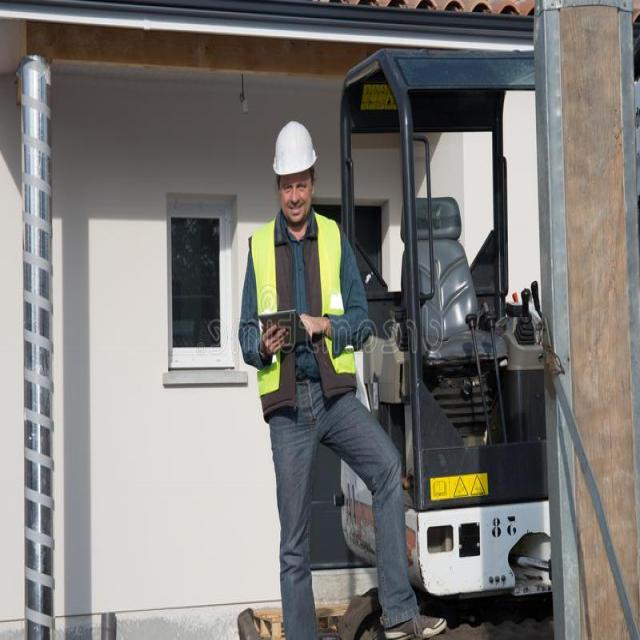Reflective-Jacket: (242, 208, 362, 412)
Safety-Helmet: (268, 117, 320, 180)
